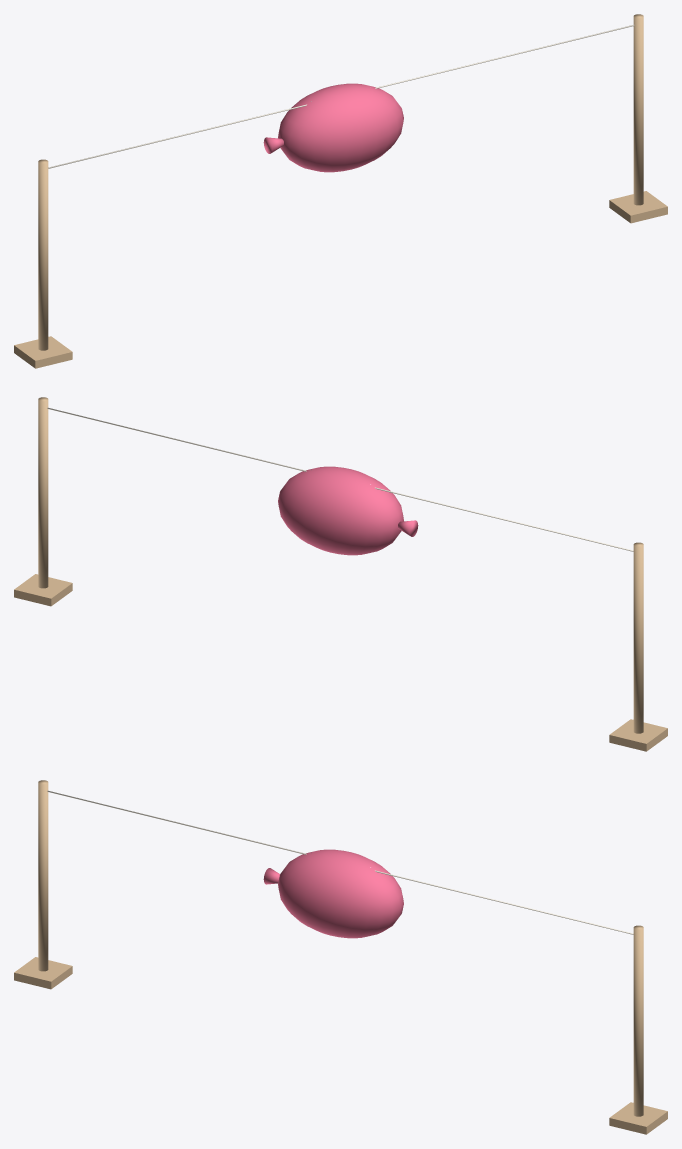
Rendered from balloon_rocket.glb.
3 views of the same model, one above another, from view 1: azimuth 30°, elevation 25°; view 2: azimuth 150°, elevation 25°; view 3: azimuth 330°, elevation 25° (orthographic).
Parts seen in each view (by area): view 1: br_balloon, br_post0, br_post1, br_foot0, br_foot1, br_string; view 2: br_balloon, br_post0, br_post1, br_foot0, br_foot1, br_string; view 3: br_balloon, br_post1, br_post0, br_foot0, br_foot1, br_string.
Boxes of the visible parts, left/top/right/bottom form: br_balloon: left=278, top=83, right=403, bottom=172; br_post0: left=38, top=159, right=48, bottom=350; br_post1: left=633, top=14, right=643, bottom=205; br_foot0: left=14, top=336, right=72, bottom=368; br_foot1: left=609, top=191, right=667, bottom=223; br_string: left=48, top=24, right=634, bottom=168; br_balloon: left=278, top=466, right=403, bottom=555; br_post0: left=633, top=542, right=643, bottom=733; br_post1: left=38, top=397, right=48, bottom=588; br_foot0: left=609, top=719, right=667, bottom=751; br_foot1: left=14, top=574, right=72, bottom=606; br_string: left=47, top=407, right=633, bottom=551; br_balloon: left=278, top=849, right=403, bottom=938; br_post1: left=633, top=925, right=643, bottom=1116; br_post0: left=38, top=780, right=48, bottom=971; br_foot0: left=14, top=957, right=72, bottom=989; br_foot1: left=609, top=1102, right=667, bottom=1134; br_string: left=47, top=790, right=633, bottom=934.
Size of the model in its own units: 0.85 by 0.25 by 0.1.
